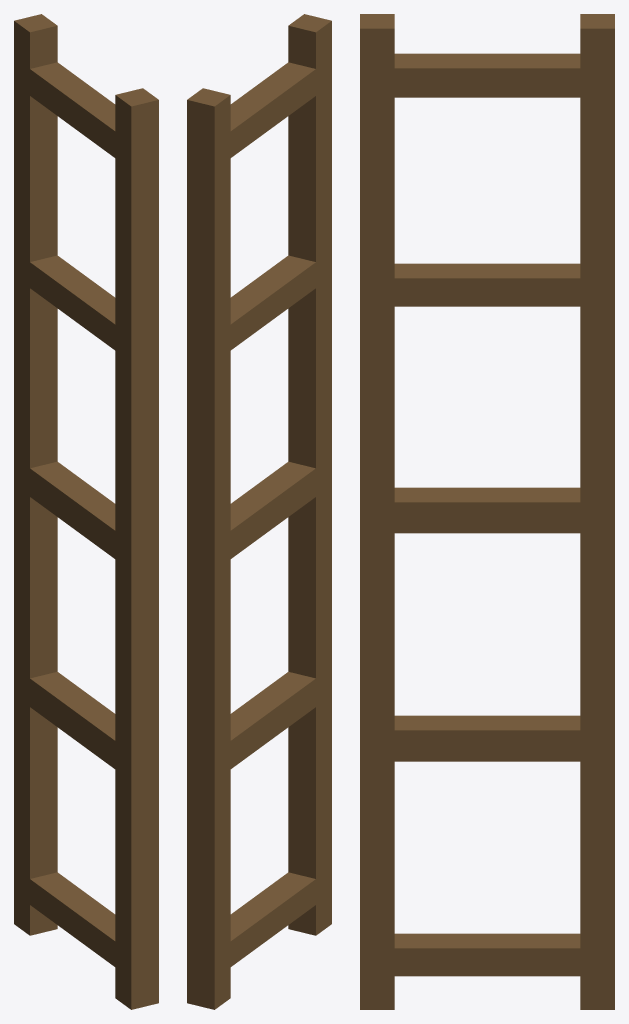
The model's file is Ladder.fbx.
3 renders of one model, left to right at view 1: azimuth 30°, elevation 25°; view 2: azimuth 150°, elevation 25°; view 3: azimuth 270°, elevation 25°, orthographic. The views are drawn at different scales.
Visible parts, largest first — view 1: pCube3; view 2: pCube3; view 3: pCube3.
Boxes of the visible parts, left/top/right/bottom form: pCube3: left=14, top=14, right=158, bottom=1009; pCube3: left=187, top=14, right=331, bottom=1009; pCube3: left=360, top=14, right=614, bottom=1009.
Bounding box in the file's own units: 0.0248 × 0.7754 × 0.1824.
